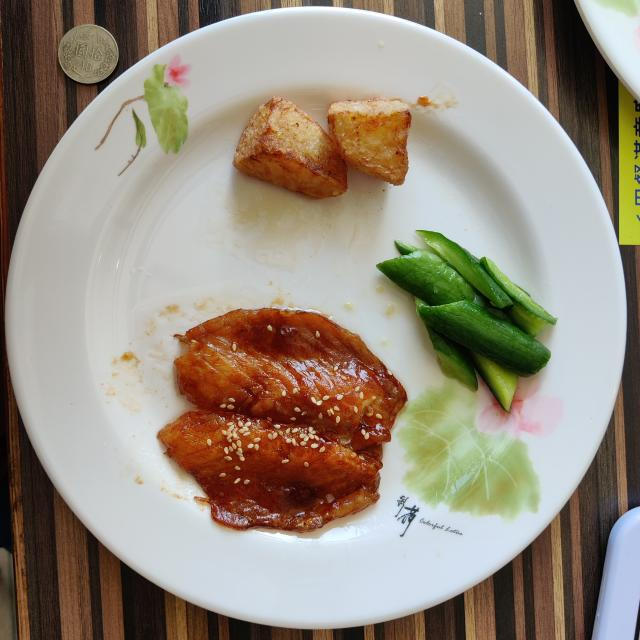Kabayaki sea bream fillet: (158, 309, 408, 531)
coin: (59, 24, 119, 84)
cucumber: (378, 230, 556, 412)
fried potato: (232, 96, 411, 199)
